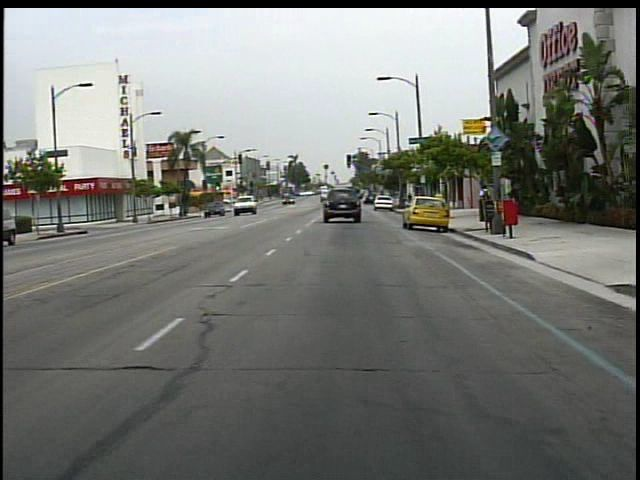person: (473, 181, 494, 221)
